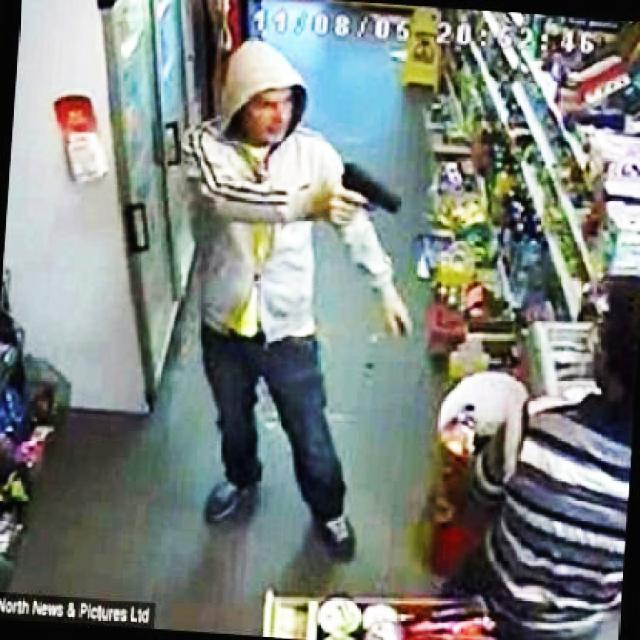Gun: (336, 160, 411, 225)
